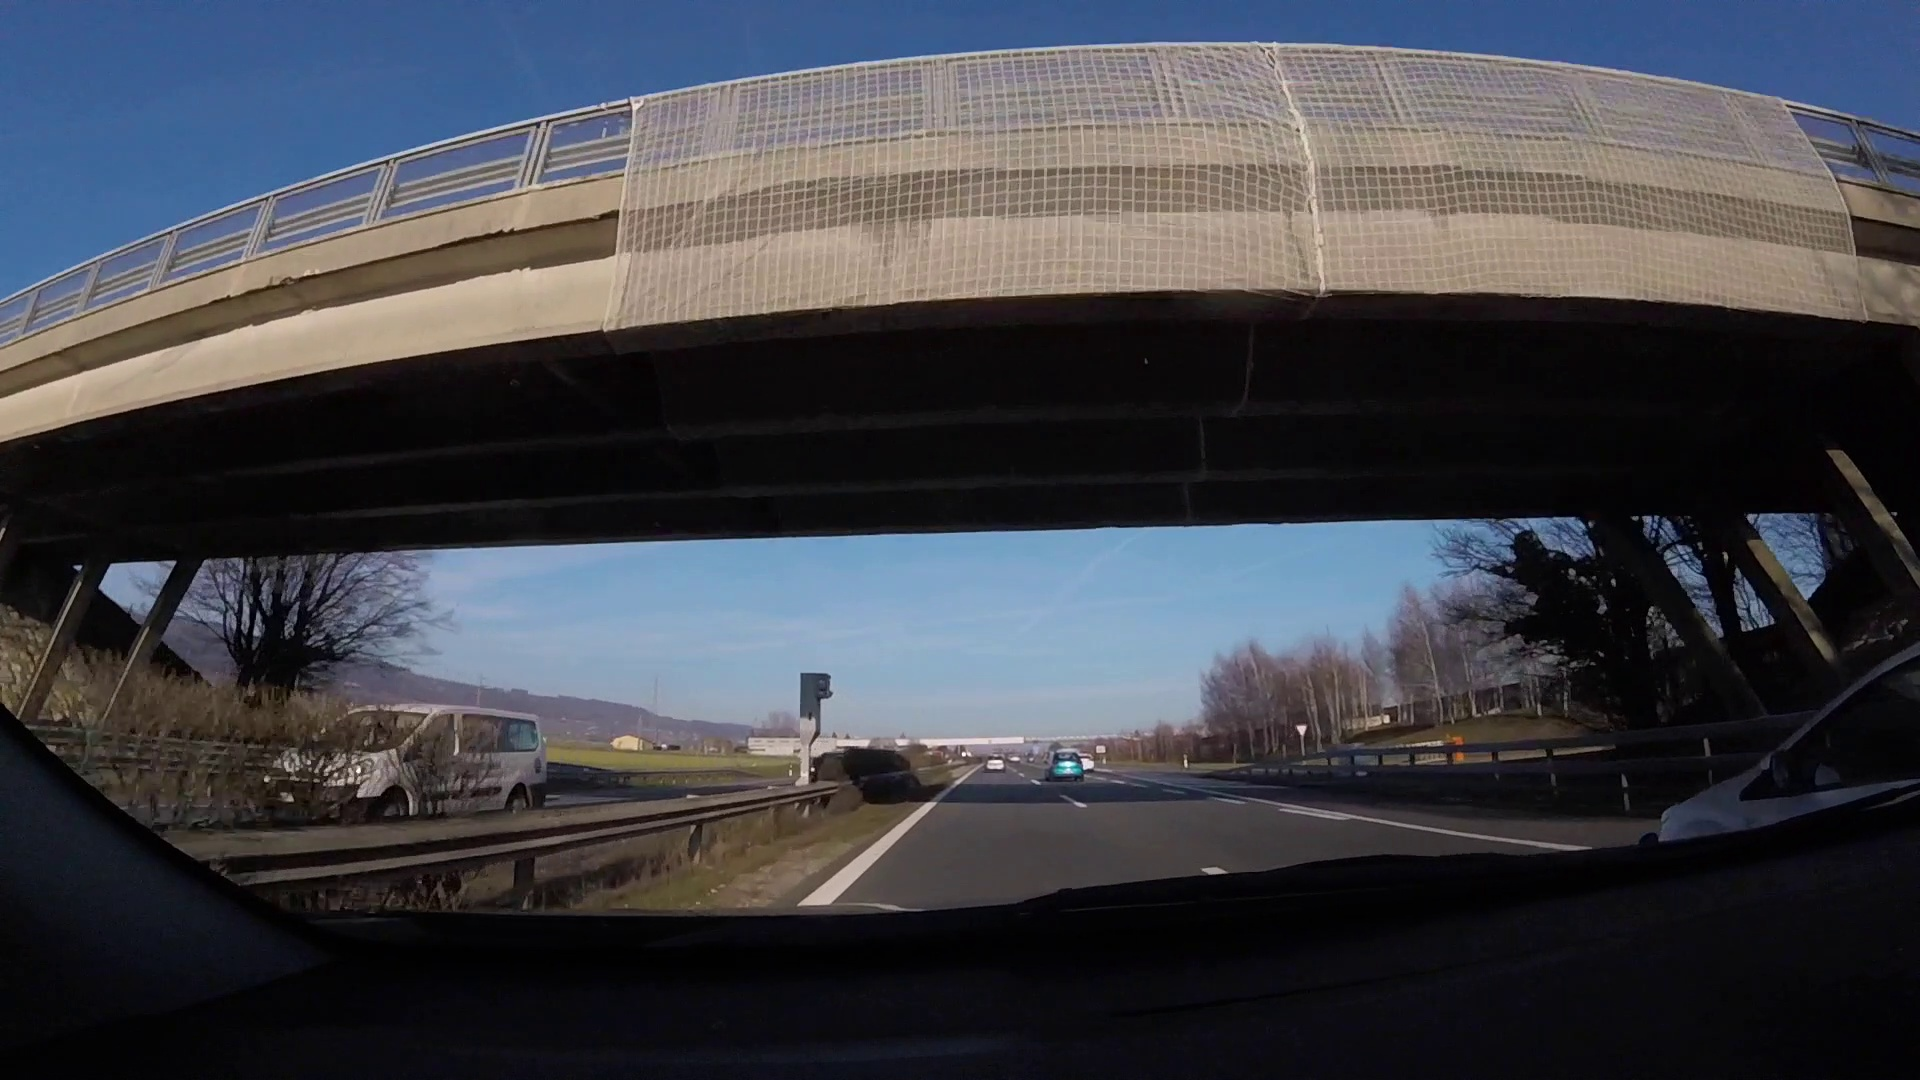radar: (796, 670, 835, 781)
